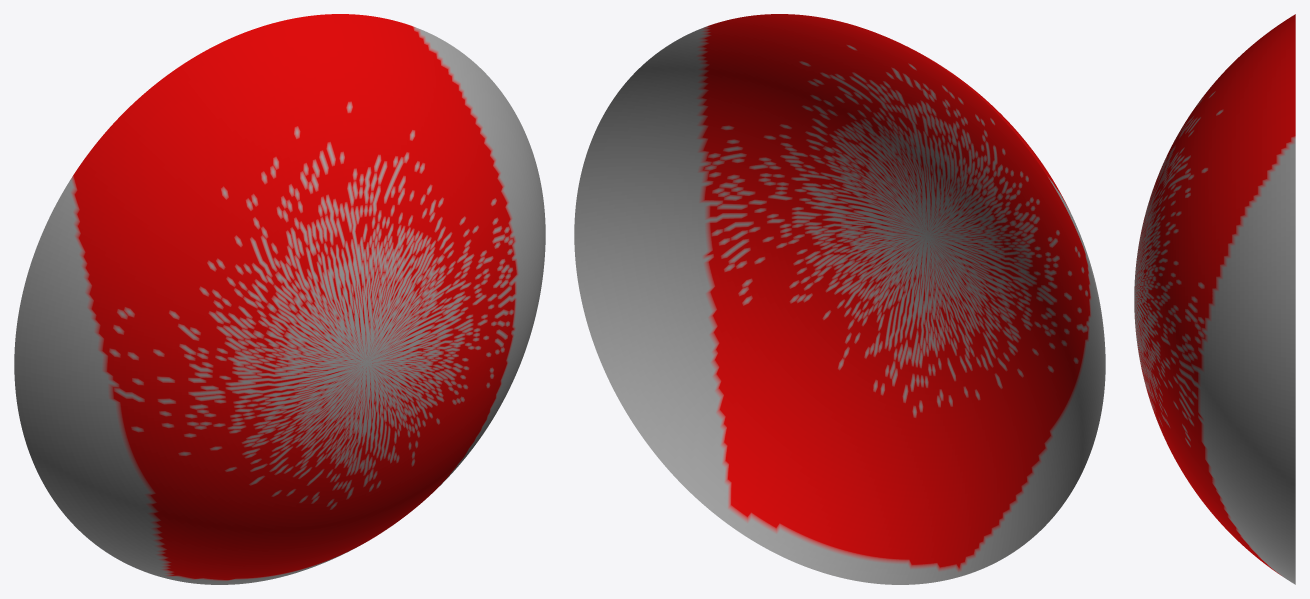
Rendered from dome_sky_model.glb.
3 renders of one model, left to right at view 1: azimuth 30°, elevation 25°; view 2: azimuth 150°, elevation 25°; view 3: azimuth 270°, elevation 25°, orthographic. The views are drawn at different scales.
Visible parts, largest first — view 1: world; view 2: world; view 3: world.
Boxes of the visible parts, x1,y1,x2,y2 form: world: [14, 14, 545, 584]; world: [574, 14, 1105, 584]; world: [1134, 14, 1295, 584].
Bounding box in the file's own units: 85.72 × 85.72 × 24.25.
